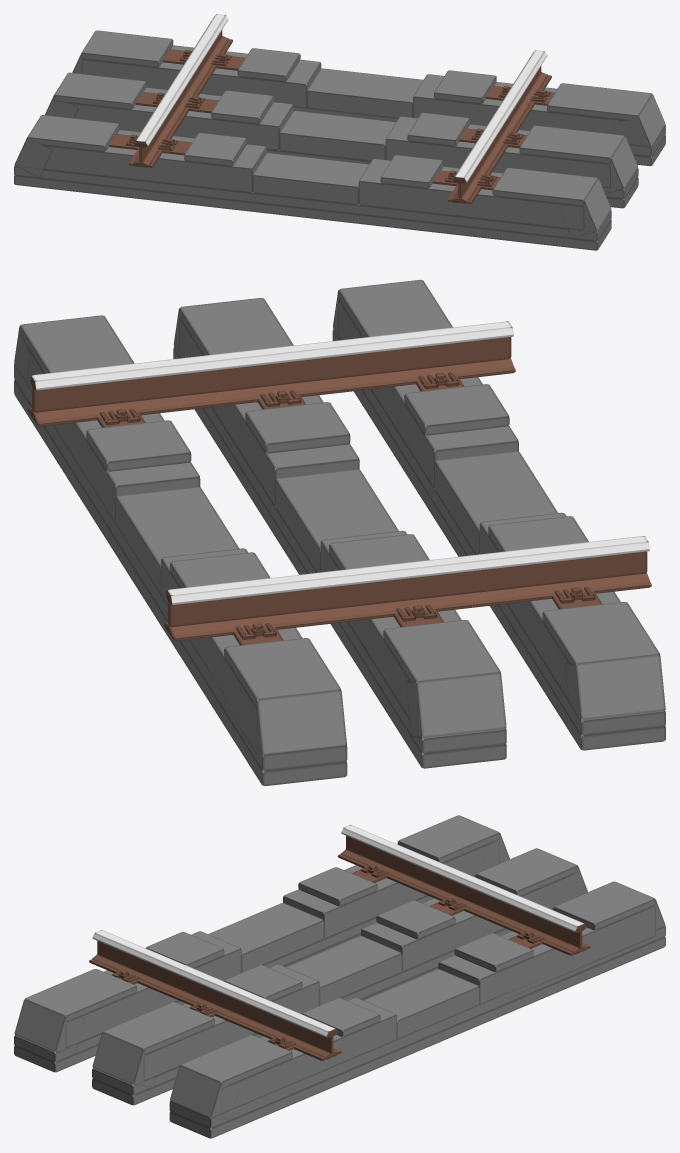
Rendered from diag_2.obj.
3 views of the same model, one above another, from view 1: azimuth 30°, elevation 25°; view 2: azimuth 150°, elevation 25°; view 3: azimuth 270°, elevation 25° (orthographic). The views are drawn at different scales.
Parts seen in each view (by area): view 1: cube; view 2: cube; view 3: cube.
Boxes of the visible parts, x1,y1,x2,y2 form: cube: (14,14,665,250); cube: (14,279,665,786); cube: (14,815,665,1138).
Bounding box in the file's own units: 2.79 × 0.3433 × 2.79.
